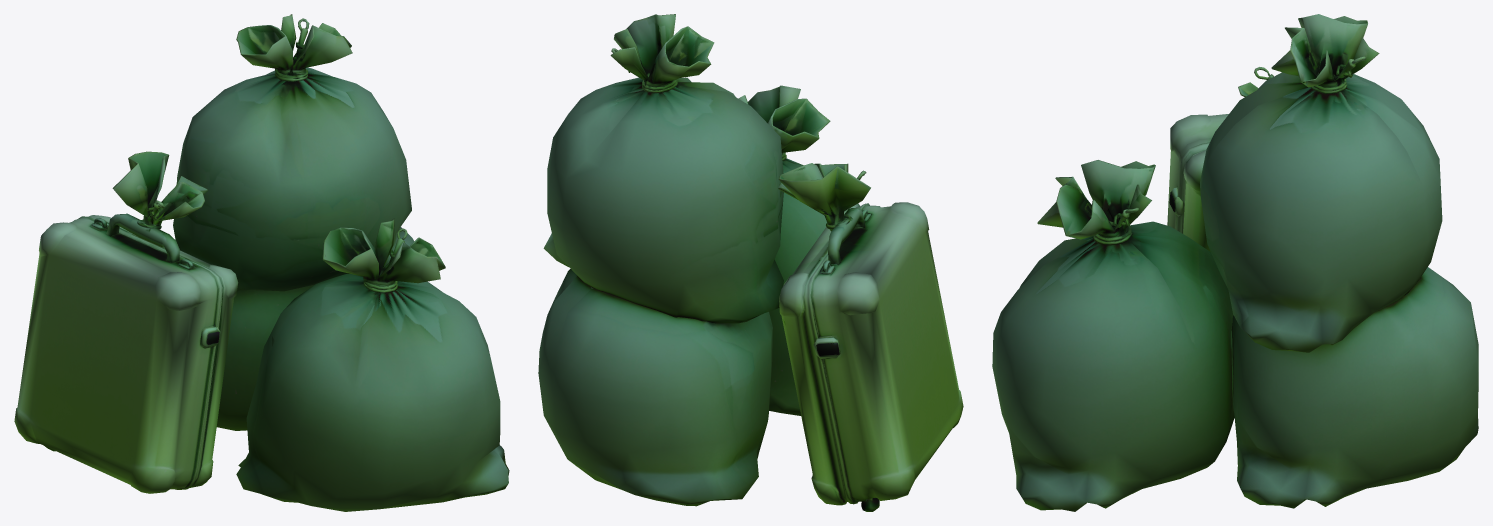
File: prop_trashbags.glb
3 views of the same model, side by side, from view 1: azimuth 30°, elevation 25°; view 2: azimuth 150°, elevation 25°; view 3: azimuth 270°, elevation 25° (orthographic). The views are drawn at different scales.
Visible parts, largest first — view 1: tripo_node_d681dd8d-a0fd-44f9-a3c1-2e856f0135ad; view 2: tripo_node_d681dd8d-a0fd-44f9-a3c1-2e856f0135ad; view 3: tripo_node_d681dd8d-a0fd-44f9-a3c1-2e856f0135ad.
Boxes of the visible parts, x1,y1,x2,y2 form: tripo_node_d681dd8d-a0fd-44f9-a3c1-2e856f0135ad: [14, 14, 509, 511]; tripo_node_d681dd8d-a0fd-44f9-a3c1-2e856f0135ad: [538, 14, 963, 511]; tripo_node_d681dd8d-a0fd-44f9-a3c1-2e856f0135ad: [992, 14, 1478, 511].
Bounding box in the file's own units: 0.9629 × 0.998 × 0.998.
1 material, 1 textured.
